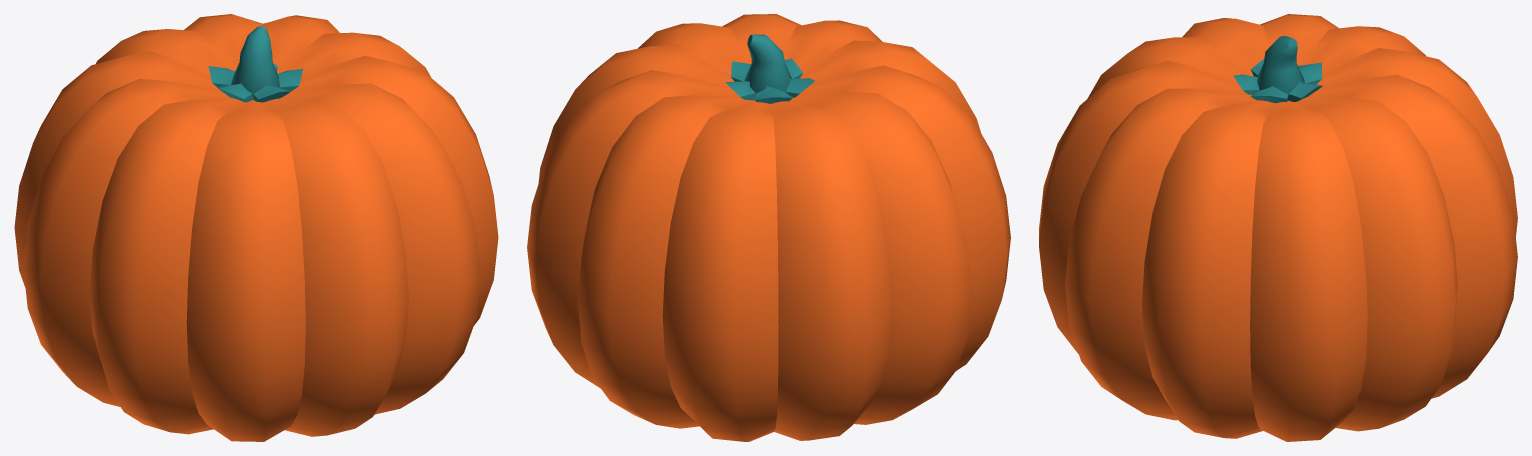
The model's file is pumpkin.gltf.
The picture shows the model from 3 angles, left to right: view 1: azimuth 30°, elevation 25°; view 2: azimuth 150°, elevation 25°; view 3: azimuth 270°, elevation 25°; orthographic projection.
Visible parts, largest first — view 1: pumpkinLarge; view 2: pumpkinLarge; view 3: pumpkinLarge.
Boxes of the visible parts, <box> form: pumpkinLarge: <box>14,14,498,441</box>; pumpkinLarge: <box>527,14,1010,441</box>; pumpkinLarge: <box>1039,14,1517,441</box>.
Bounding box in the file's own units: 1.44 × 1.17 × 1.43.
